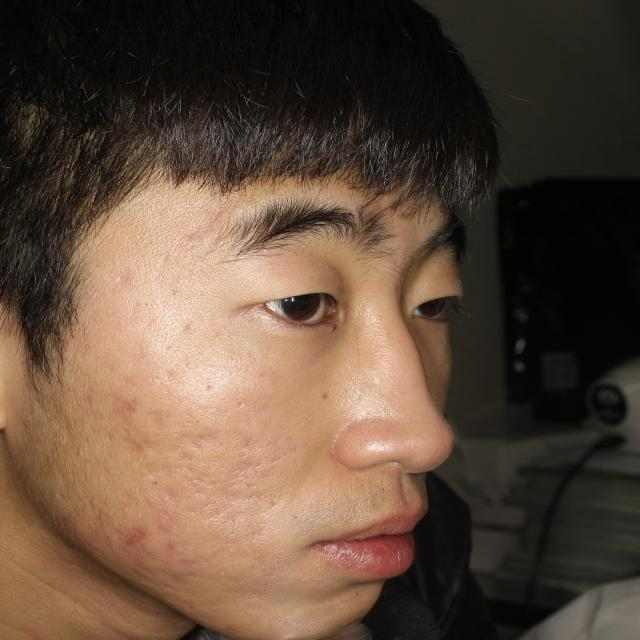pustule: (164, 558, 200, 582), (122, 431, 153, 458), (119, 519, 145, 550), (115, 390, 133, 411), (150, 516, 171, 532), (158, 533, 175, 549)
